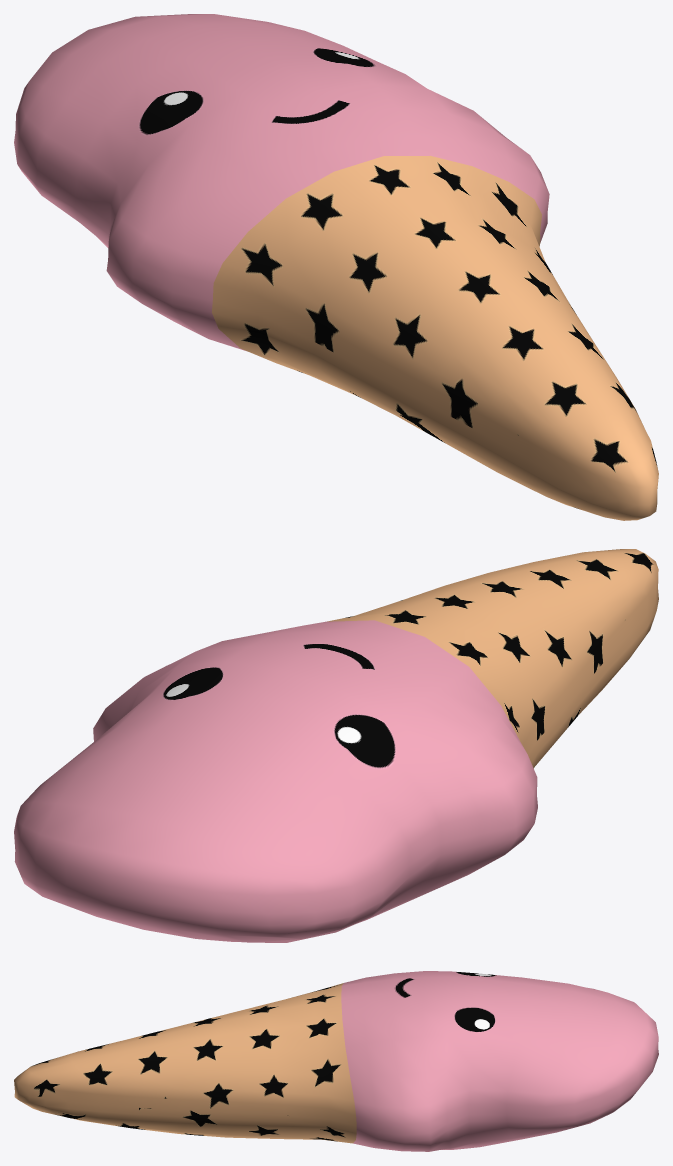
Rendered from Ice cream cushion 2.fbx.
The picture shows the model from 3 angles, top to bottom: view 1: azimuth 30°, elevation 25°; view 2: azimuth 150°, elevation 25°; view 3: azimuth 270°, elevation 25°; orthographic projection. The views are drawn at different scales.
Visible parts, largest first — view 1: ice cream cushion 2; view 2: ice cream cushion 2; view 3: ice cream cushion 2.
Boxes of the visible parts, box(x1,y1,x2,y2) form: ice cream cushion 2: box(14, 14, 658, 520); ice cream cushion 2: box(14, 549, 658, 942); ice cream cushion 2: box(14, 971, 658, 1151).
Bounding box in the file's own units: 16.88 × 8.56 × 37.08.
1 material, 1 textured.
